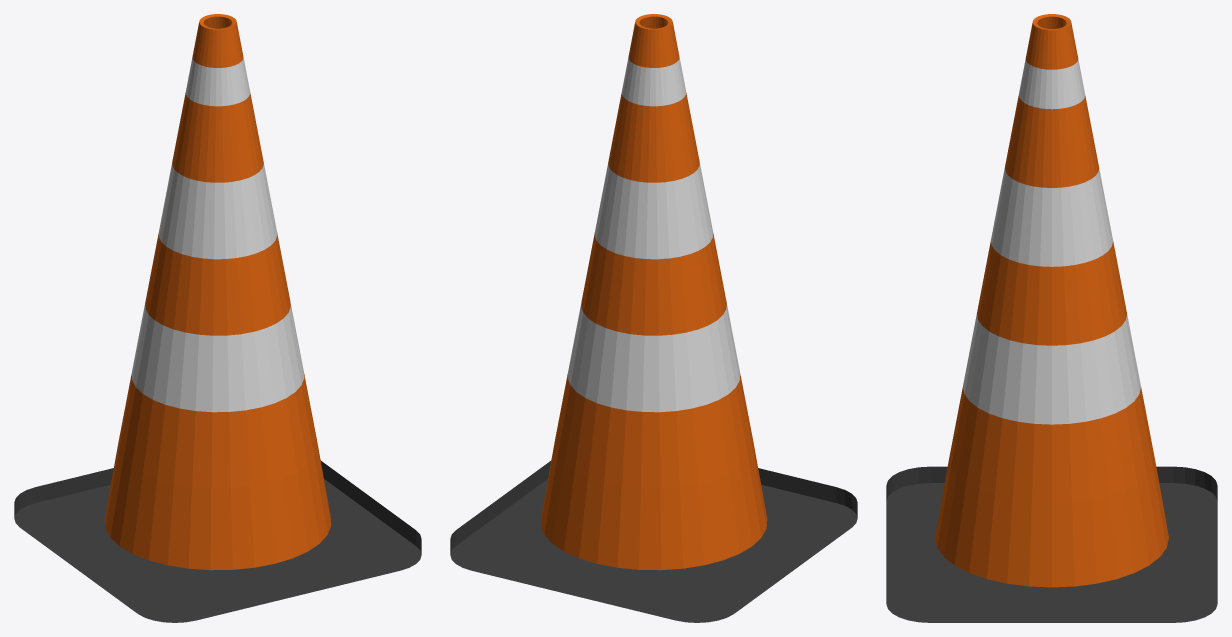
Rendered from Traffic Cone1.fbx.
3 views of the same model, side by side, from view 1: azimuth 30°, elevation 25°; view 2: azimuth 150°, elevation 25°; view 3: azimuth 270°, elevation 25° (orthographic). The views are drawn at different scales.
Parts seen in each view (by area): view 1: Cylinder; view 2: Cylinder; view 3: Cylinder.
Boxes of the visible parts, x1,y1,x2,y2 form: Cylinder: (14, 14, 421, 622); Cylinder: (450, 14, 857, 622); Cylinder: (886, 14, 1217, 622).
Bounding box in the file's own units: 283 × 500 × 283.
